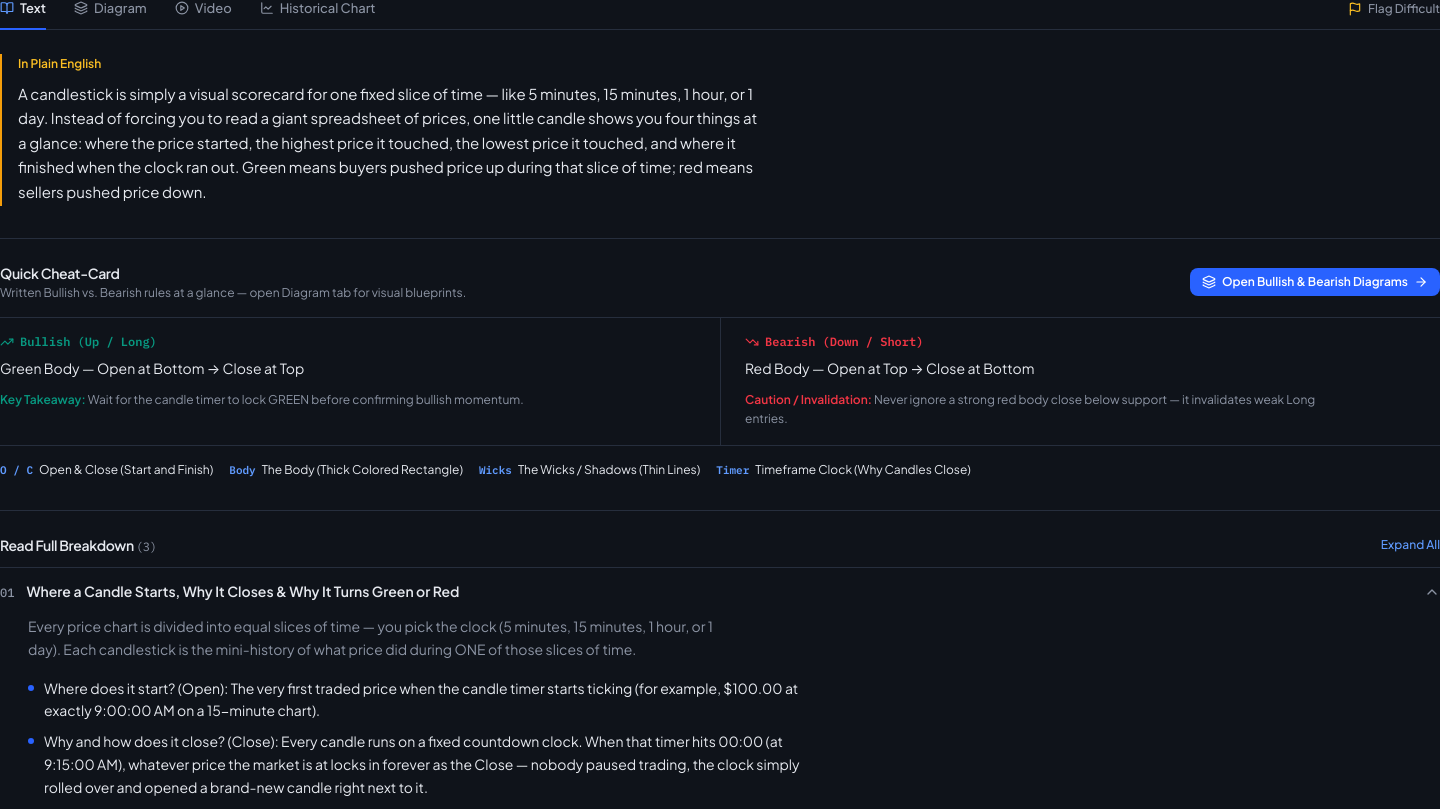
Test case: Wave 3 — Total-Beginner Curriculum & 27/27 Historical Chart Verification › Lesson 02 (Candlestick Anatomy) shows Plain-English Quick Cheat-Card on Text tab, dual Green/Red SVGs on Diagram tab, and linked historical chart
The image size is (1440, 809).
Check: the text "In Plain English" is shown, box [18,56,101,71]
Check: the heading "Quick Cheat-Card" is shown, box [0,264,120,282]
// Opening Diagram tab reveals both Green (Bullish) and Red (Bearish) labeled candlestick SVGs
Click the button "Open Bullish & Bearish Diagrams": (1315, 282) [1190,268,1439,296]
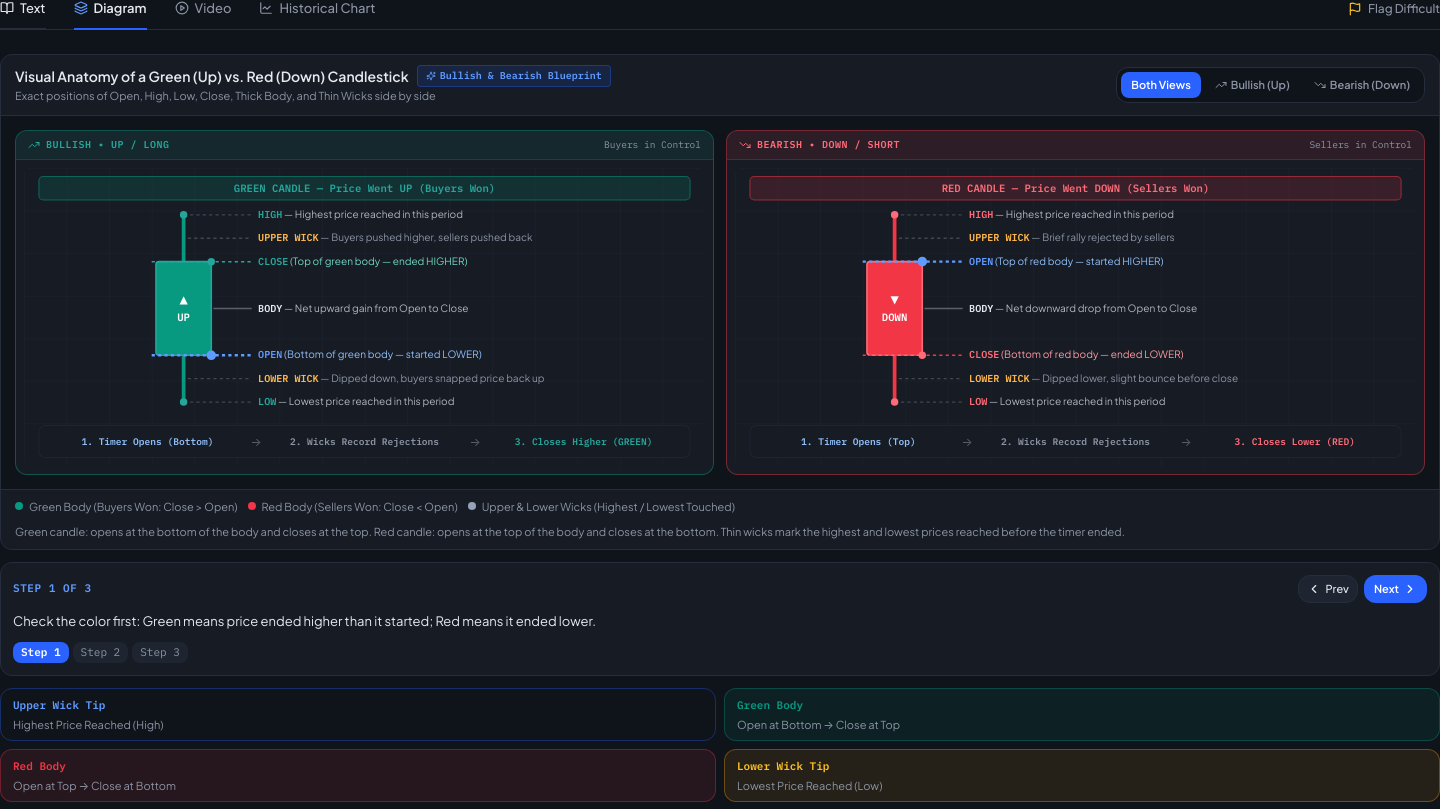
Check: the text "GREEN CANDLE — Price Went UP" is shown, box [234,180,495,194]
Check: the tab with aria-label "Diagram Explanation" is selected, box [74,0,146,30]
// Switching to Historical Chart displays the linked BTC/USD candlestick anatomy scenario
Click the tab "Historical Chart": (317, 15) [260,0,375,30]
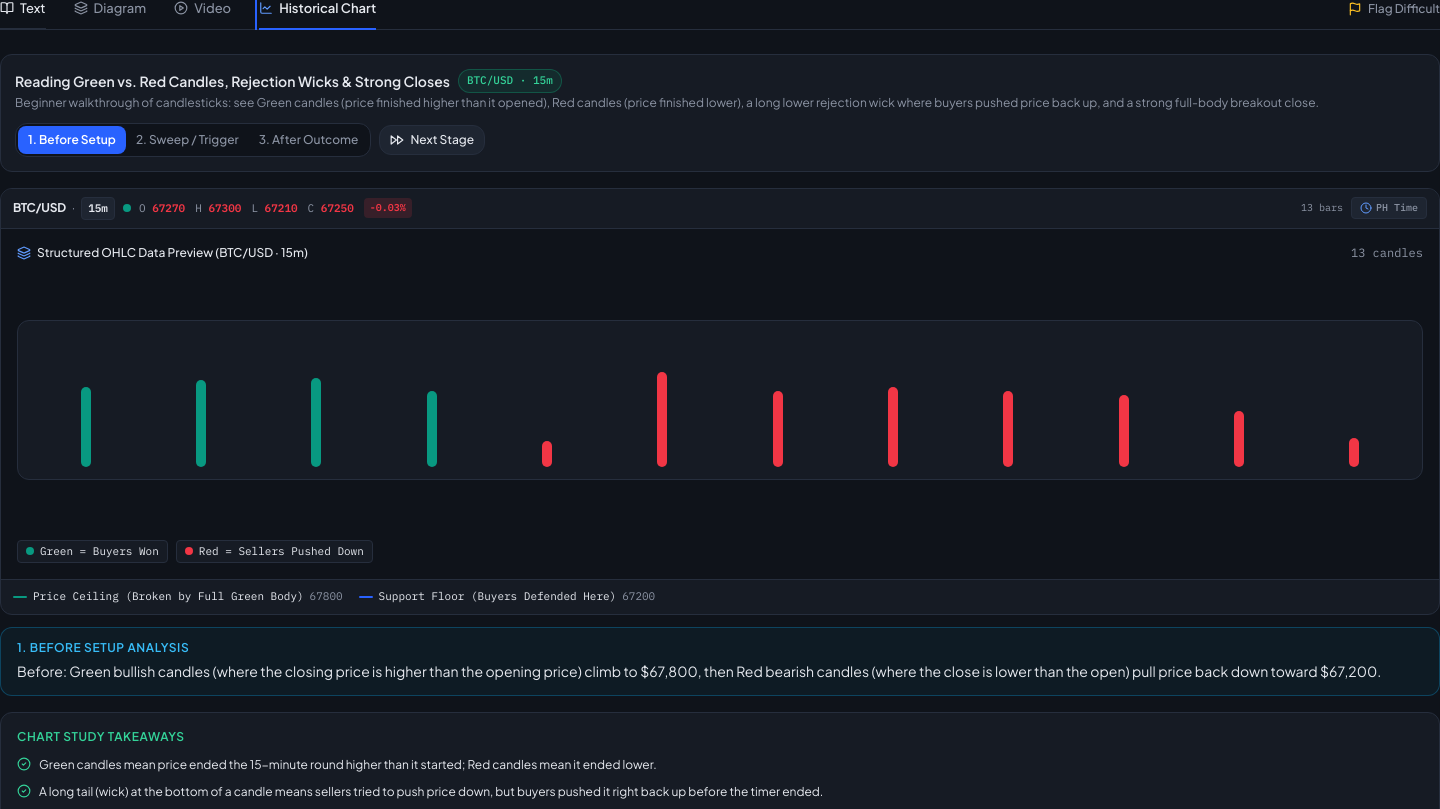
Check: the text "Structured OHLC Data Preview (BTC/USD · 15m)" is shown, box [17,245,308,261]
